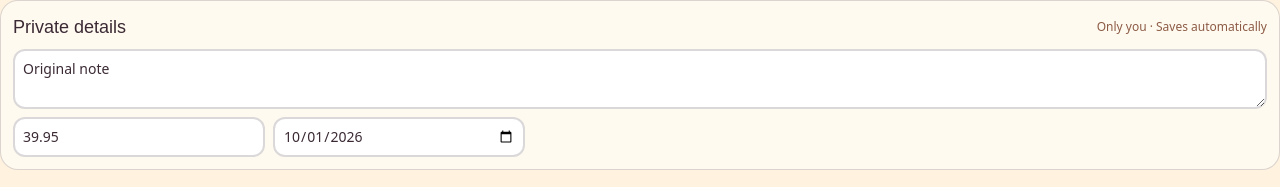
Test: GamePrivateDetailsForm › loads existing values and automatically saves edits after a pause
Expected: the number field named "Amount paid (EUR)" holds "39.95", [13,117,265,157]
Expected: the date field named "Date acquired" holds "2026-10-01", [273,117,525,157]
Replace the text in the text box named "Private comment" with "  Gift from a friend  " at (640,79), box [13,49,1267,109]
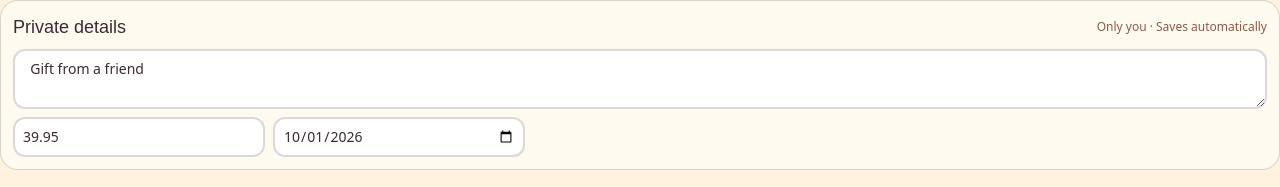
Replace the text in the number field named "Amount paid (EUR)" with "0" at (139,137), box [13,117,265,157]
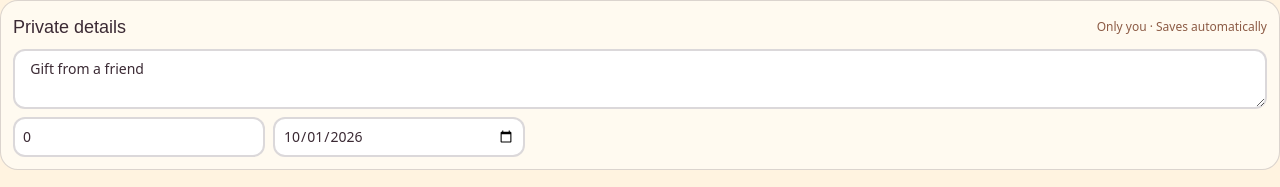
Type "2026-10-10" into the date field named "Date acquired" at (399,137), box [273,117,525,157]
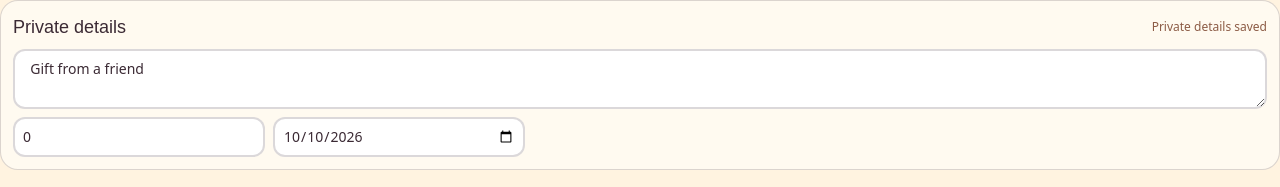
Now the text "Private details saved" is shown, box [1152,19,1267,35]
